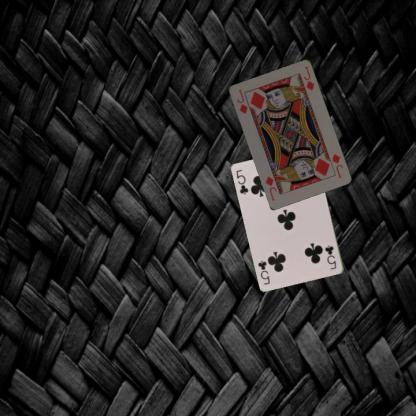5c: (234, 167, 250, 196), (322, 243, 338, 271)
Jd: (234, 86, 249, 116), (329, 150, 344, 180)
